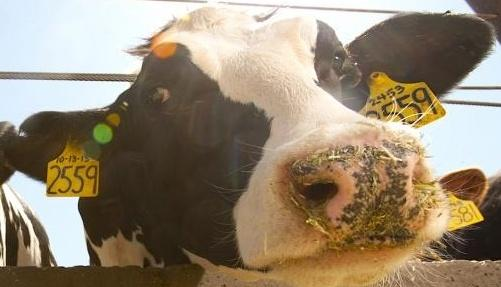muzzles: (228, 120, 455, 285)
